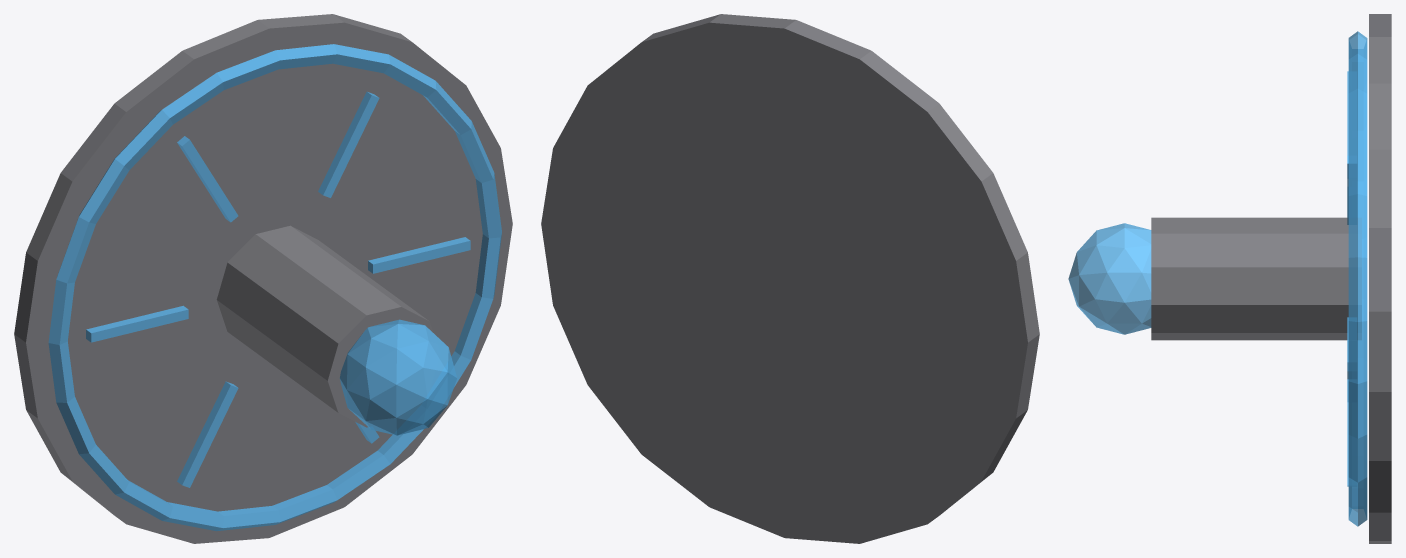
File: chimera_feeding_lane_marker.glb
3 views of the same model, side by side, from view 1: azimuth 30°, elevation 25°; view 2: azimuth 150°, elevation 25°; view 3: azimuth 270°, elevation 25° (orthographic). The views are drawn at different scales.
Visible parts, largest first — view 1: arena_plate, mechanic_core, warning_ring, activation_orb, floor_rune_4, floor_rune_1, floor_rune_3, floor_rune_0, floor_rune_2; view 2: arena_plate; view 3: mechanic_core, arena_plate, warning_ring, activation_orb.
Part boxes in pixels (<box>): arena_plate: <box>14,14,512,543</box>; mechanic_core: <box>216,225,439,427</box>; warning_ring: <box>48,44,501,531</box>; activation_orb: <box>339,319,457,435</box>; floor_rune_4: <box>177,381,238,487</box>; floor_rune_1: <box>318,91,379,197</box>; floor_rune_3: <box>86,305,188,342</box>; floor_rune_0: <box>368,237,470,273</box>; floor_rune_2: <box>177,136,238,222</box>; arena_plate: <box>541,14,1039,543</box>; mechanic_core: <box>1151,217,1361,340</box>; arena_plate: <box>1369,14,1391,543</box>; warning_ring: <box>1348,31,1367,526</box>; activation_orb: <box>1068,223,1151,334</box>.
Size of the model in its own units: 1.9 by 1.9 by 1.15.
